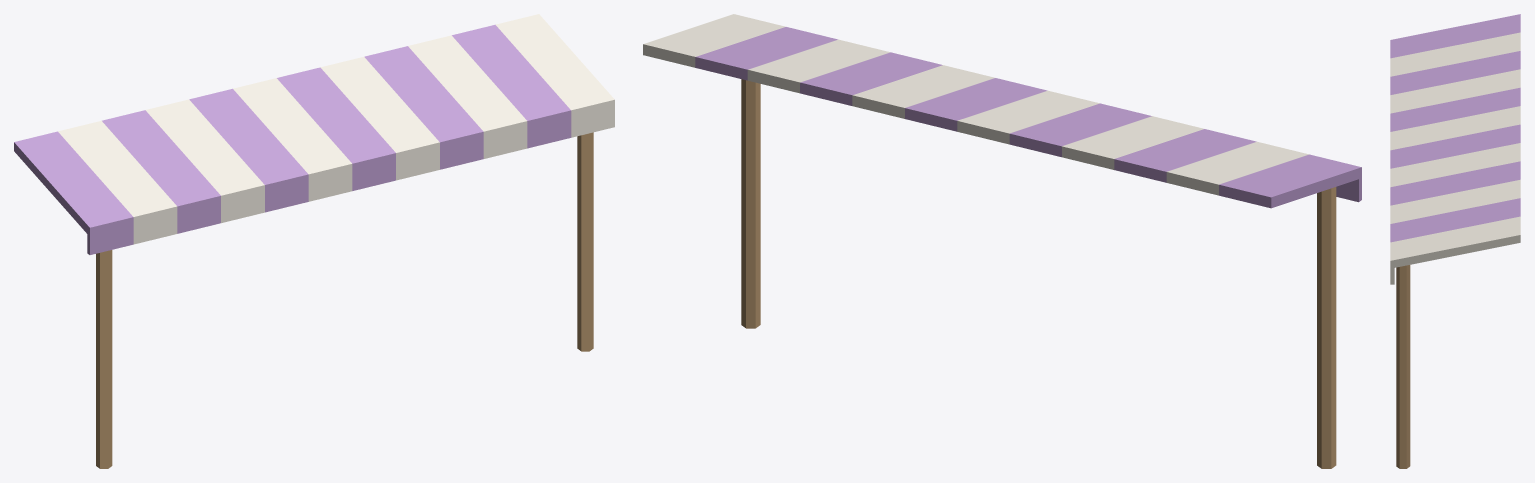
File: awning_w6_0_mint.glb
3 views of the same model, side by side, from view 1: azimuth 30°, elevation 25°; view 2: azimuth 150°, elevation 25°; view 3: azimuth 270°, elevation 25° (orthographic). The views are drawn at different scales.
Visible parts, largest first — view 1: Player; view 2: Player; view 3: Player.
Part boxes in pixels (<box>): Player: <box>14,14,614,468</box>; Player: <box>643,14,1361,468</box>; Player: <box>1390,14,1520,468</box>.
Bounding box in the file's own units: 6 × 3.05 × 1.5.
